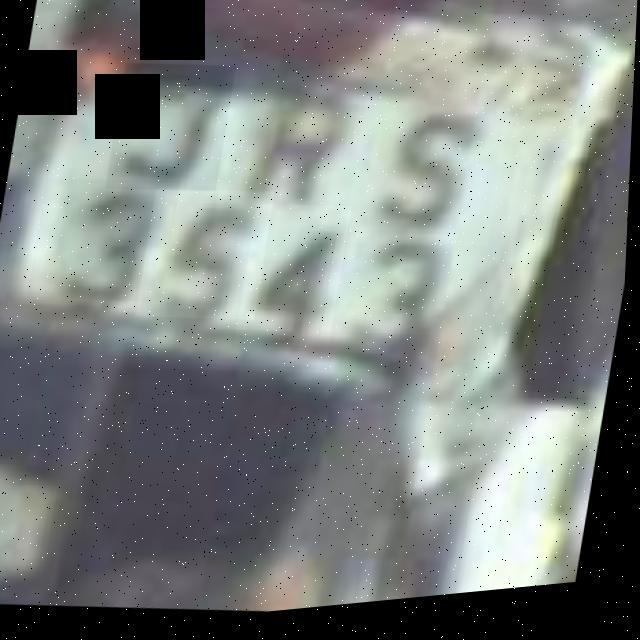3: (286, 205, 495, 409), (29, 168, 183, 315)
4: (237, 201, 354, 361)
5: (138, 182, 278, 334)
J: (106, 56, 237, 204)
S: (344, 86, 515, 267)
